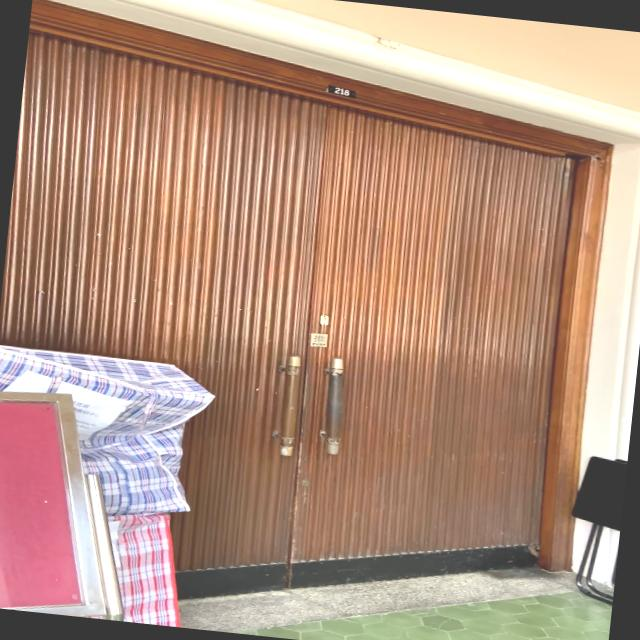room218: (324, 82, 358, 100)
